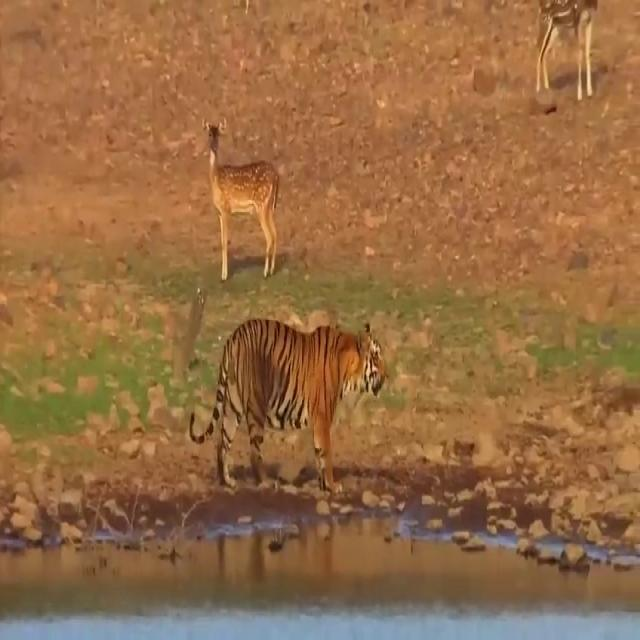tiger: (188, 318, 390, 494)
